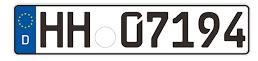0: (119, 10, 144, 49)
1: (171, 10, 195, 49)
4: (223, 11, 246, 48)
7: (146, 8, 169, 49)
9: (196, 11, 221, 48)
H: (67, 9, 91, 48), (40, 11, 64, 48)
